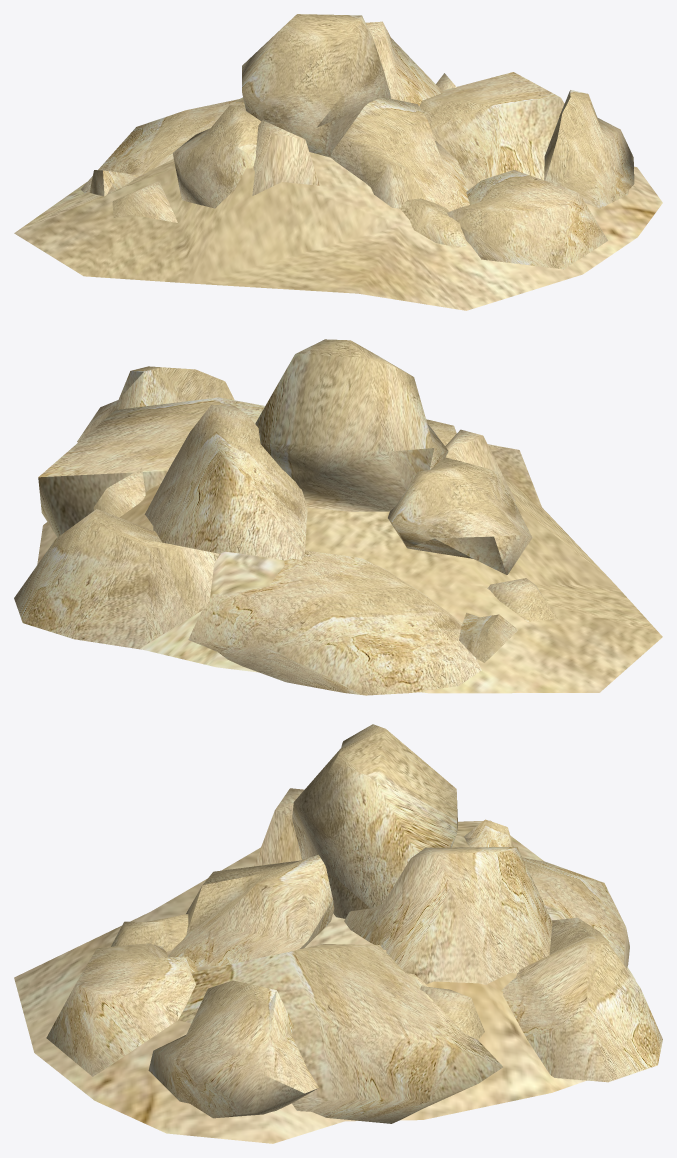
Rendered from rockpile_cave_stone.fbx.
The picture shows the model from 3 angles, top to bottom: view 1: azimuth 30°, elevation 25°; view 2: azimuth 150°, elevation 25°; view 3: azimuth 270°, elevation 25°; orthographic projection. The views are drawn at different scales.
Visible parts, largest first — view 1: dirt, rock_11, rock_2, rock_4, rock_13, rock_3, rock_6, rock_5, rock_14, rock_12, rock_10, rock_7 (+1 smaller); view 2: dirt, rock_5, rock_11, rock_1, rock_12, rock_2, rock_6, rock_3, rock_9, rock_7, rock_14, rock_8; view 3: rock_2, dirt, rock_12, rock_11, rock_1, rock_3, rock_13, rock_4, rock_5, rock_14, rock_10, rock_8 (+1 smaller).
Part boxes in pixels (x1,y1,x2,y2): dirt: (14,97,662,310); rock_11: (242,14,391,157); rock_2: (420,72,564,185); rock_4: (447,170,607,269); rock_13: (330,97,469,210); rock_3: (544,90,634,208); rock_6: (173,105,261,208); rock_5: (81,99,244,193); rock_14: (252,120,319,195); rock_12: (366,21,443,105); rock_10: (400,198,466,247); rock_7: (112,181,177,222); dirt: (37,444,662,693); rock_5: (188,550,481,695); rock_11: (255,339,448,511); rock_1: (14,509,220,649); rock_12: (144,404,307,560); rock_2: (38,397,264,537); rock_6: (388,457,532,574); rock_3: (77,366,234,442); rock_9: (459,612,517,662); rock_7: (487,578,557,621); rock_14: (445,429,515,501); rock_8: (93,468,145,517); rock_2: (178,944,503,1123); dirt: (14,820,635,1143); rock_12: (344,847,552,984); rock_11: (292,724,457,918); rock_1: (501,917,662,1082); rock_3: (148,980,318,1118); rock_13: (168,854,334,967); rock_4: (46,943,197,1076); rock_5: (522,857,629,968); rock_14: (254,788,304,865); rock_10: (111,914,188,951); rock_8: (419,986,484,1039).
Bounding box in the file's own units: 1713 × 590 × 1453.
1 material, 1 textured.
